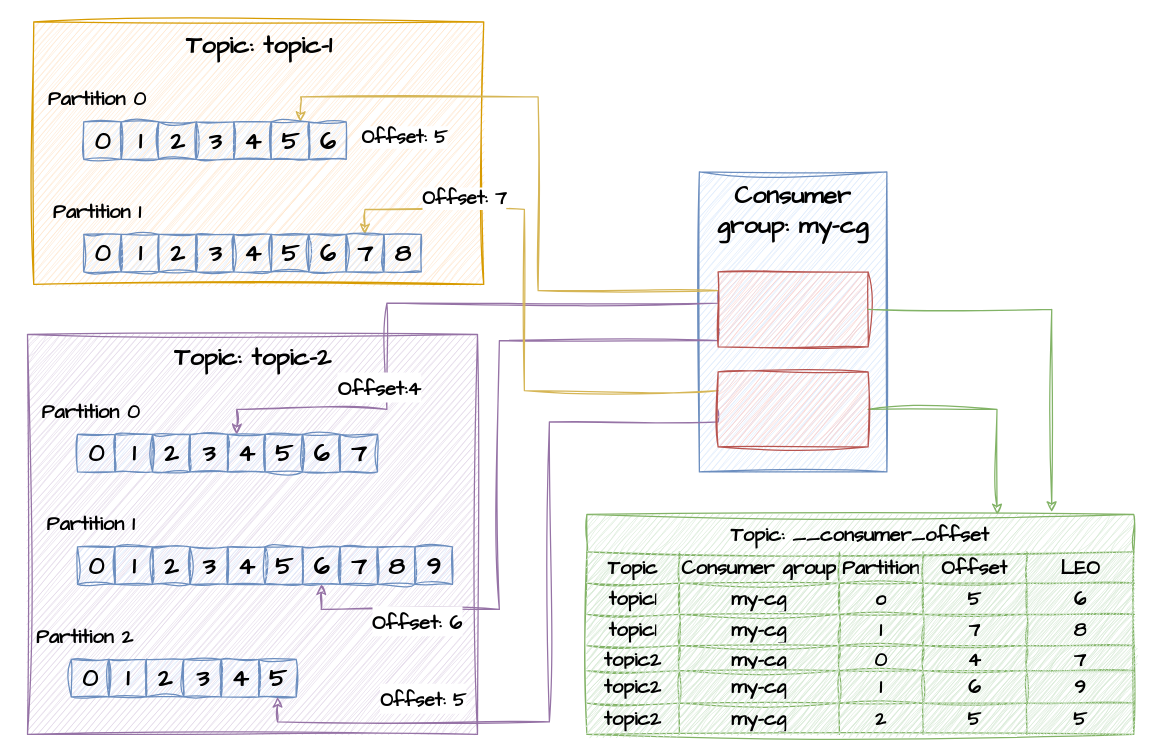
This 1156x756 diagram has some shape labels left out. Each missing label, with the centre of its shape:
Consumer 1: (x=792, y=309)
Consumer 2: (x=792, y=409)
